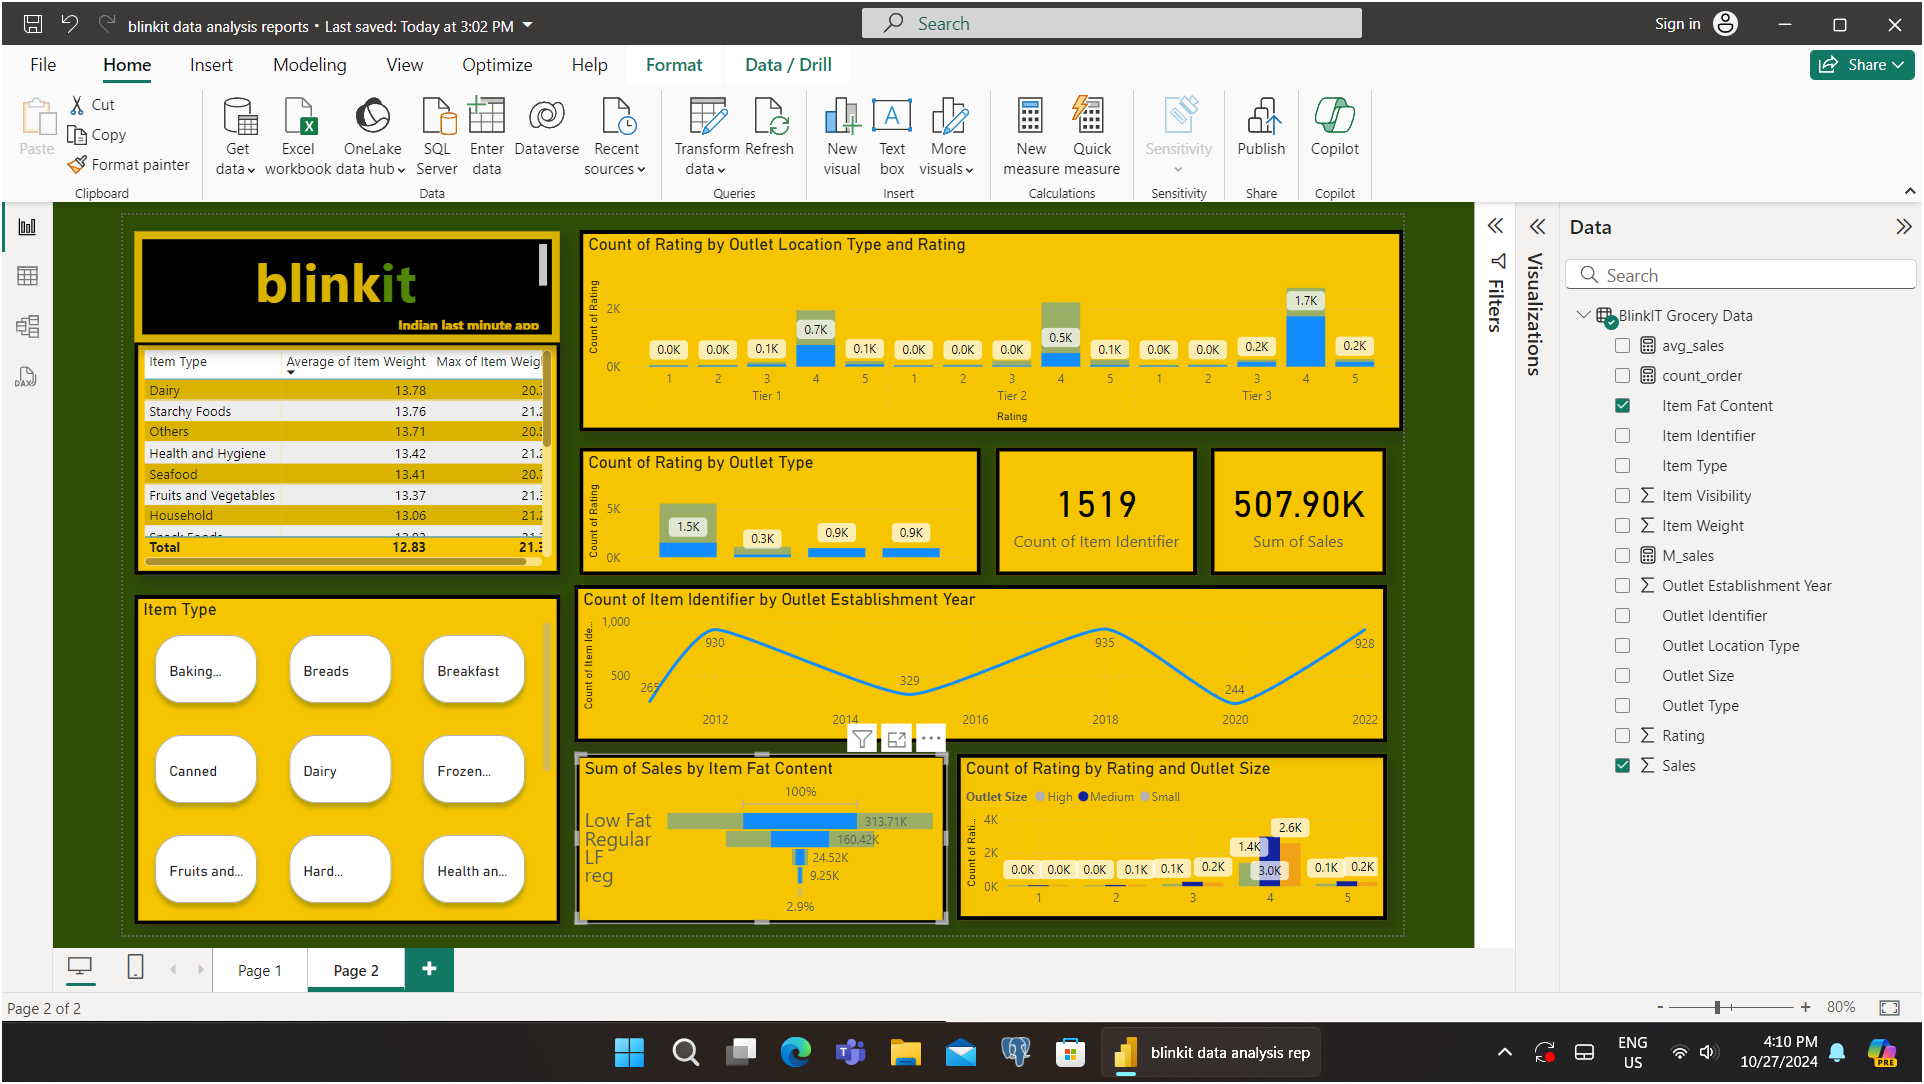

What the dashboard file says about the page in this screenshot:
{"tool":"powerbi","page":{"name":"Page 2","canvas":[1280,720],"ordinal":1},"visuals":[{"type":"lineClusteredColumnComboChart","fields":{"Y":["BlinkIT Grocery Data.Rating"],"Category":["BlinkIT Grocery Data.Outlet Location Type","BlinkIT Grocery Data.Rating"]},"box":[456,15.5,824.2,201.5],"z":0},{"type":"lineClusteredColumnComboChart","fields":{"Category":["BlinkIT Grocery Data.Rating"],"Y":["BlinkIT Grocery Data.Rating"],"Series":["BlinkIT Grocery Data.Outlet Size"]},"box":[833.3,538.7,430.2,166.7],"z":1000},{"type":"lineClusteredColumnComboChart","fields":{"Category":["BlinkIT Grocery Data.Outlet Type"],"Y":["BlinkIT Grocery Data.Rating"]},"box":[456,232.5,401.8,127.9],"z":3000},{"type":"advancedSlicerVisual","fields":{"Values":["BlinkIT Grocery Data.Item Type"]},"box":[11.6,379.8,426.3,329.4],"z":3001},{"type":"card","fields":{"Values":["BlinkIT Grocery Data.Sales"]},"box":[1087.8,232.5,175.7,127.9],"z":3002},{"type":"card","fields":{"Values":["BlinkIT Grocery Data.Item Identifier"]},"box":[872,232.5,201.5,127.9],"z":3003},{"type":"lineChart","fields":{"Category":["BlinkIT Grocery Data.Outlet Establishment Year"],"Y":["BlinkIT Grocery Data.Item Identifier"]},"box":[450.9,369.5,812.6,157.6],"z":3004},{"type":"tableEx","fields":{"Values":["BlinkIT Grocery Data.Item Type","BlinkIT Grocery Data.Item Weight","BlinkIT Grocery Data.Item Weight"]},"box":[11.6,126.6,426.3,233.8],"z":3005},{"type":"funnel","fields":{"Y":["BlinkIT Grocery Data.Sales"],"Category":["BlinkIT Grocery Data.Item Fat Content"]},"box":[452.9,538.6,371.4,170],"z":3006},{"type":"textbox","box":[11.4,15.7,425.7,111.4],"z":3007}]}

Visuals, with their boxes on the page's 1280x720 design canvas (x1, y1, x2, y2). These are canvas units, not pixel positions in the 1924x1084 screenshot, which may show the page scaled, cropped or inside an application window:
lineClusteredColumnComboChart - BlinkIT Grocery Data.Rating x BlinkIT Grocery Data.Outlet Location Type: region(456, 16, 1280, 217)
lineClusteredColumnComboChart - BlinkIT Grocery Data.Rating x BlinkIT Grocery Data.Rating: region(833, 539, 1264, 705)
lineClusteredColumnComboChart - BlinkIT Grocery Data.Outlet Type x BlinkIT Grocery Data.Rating: region(456, 232, 858, 360)
advancedSlicerVisual - BlinkIT Grocery Data.Item Type: region(12, 380, 438, 709)
card - BlinkIT Grocery Data.Sales: region(1088, 232, 1264, 360)
card - BlinkIT Grocery Data.Item Identifier: region(872, 232, 1074, 360)
lineChart - BlinkIT Grocery Data.Outlet Establishment Year x BlinkIT Grocery Data.Item Identifier: region(451, 370, 1264, 527)
tableEx - BlinkIT Grocery Data.Item Type x BlinkIT Grocery Data.Item Weight: region(12, 127, 438, 360)
funnel - BlinkIT Grocery Data.Sales x BlinkIT Grocery Data.Item Fat Content: region(453, 539, 824, 709)
textbox: region(11, 16, 437, 127)
